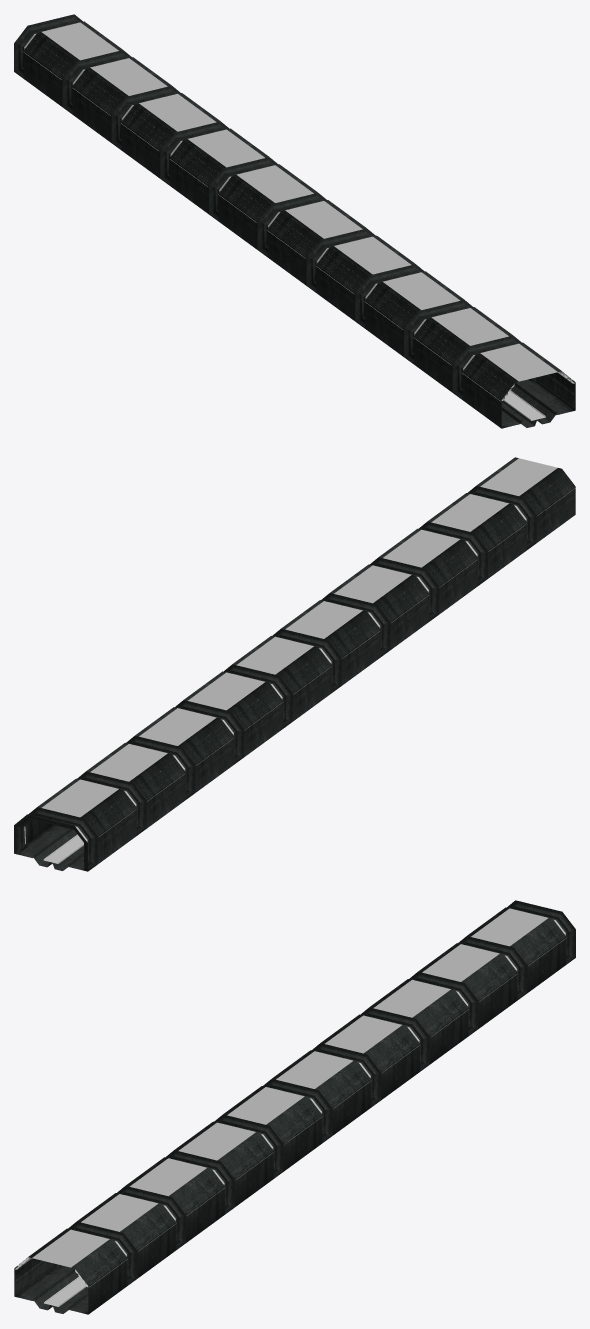
File: tunnel_long.fbx
3 views of the same model, one above another, from view 1: azimuth 30°, elevation 25°; view 2: azimuth 150°, elevation 25°; view 3: azimuth 330°, elevation 25° (orthographic).
Visible parts, largest first — view 1: tunnel5; view 2: tunnel5; view 3: tunnel5.
Part boxes in pixels (box(x1,y1,x2,y2)): tunnel5: box(14, 14, 575, 428); tunnel5: box(14, 457, 575, 871); tunnel5: box(14, 900, 575, 1314).
Size of the model in its own units: 5582 by 3414 by 62264.
